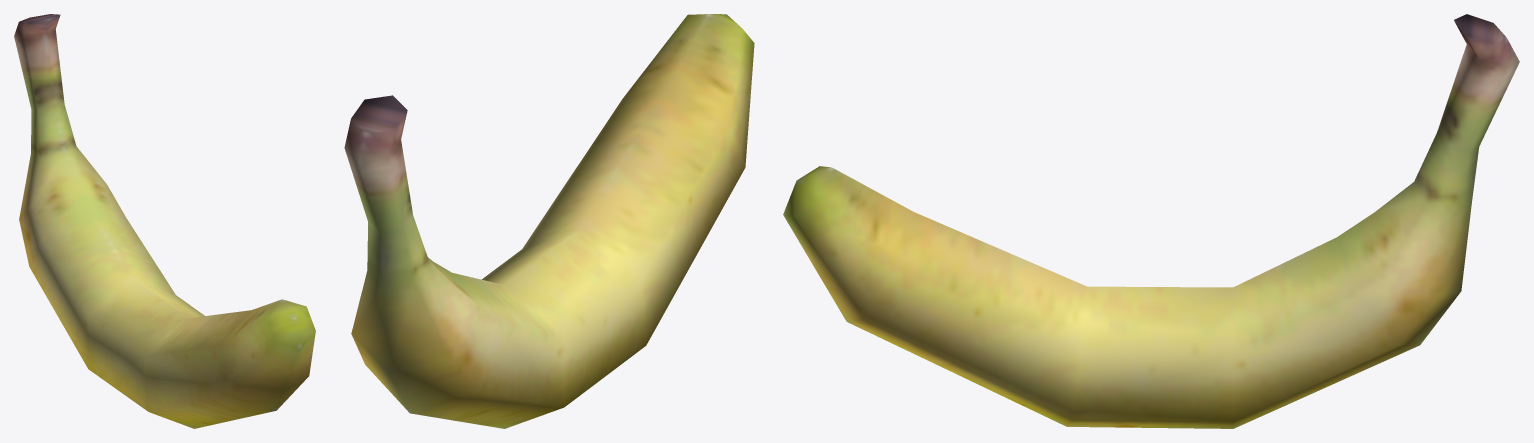
The model's file is bananana.fbx.
3 renders of one model, left to right at view 1: azimuth 30°, elevation 25°; view 2: azimuth 150°, elevation 25°; view 3: azimuth 270°, elevation 25°, orthographic. The views are drawn at different scales.
Visible parts, largest first — view 1: banana; view 2: banana; view 3: banana.
Part boxes in pixels (box(x1,y1,x2,y2)): banana: box(14, 14, 315, 428); banana: box(344, 14, 754, 428); banana: box(783, 14, 1519, 428).
Size of the model in its own units: 74.67 by 249 by 407.
